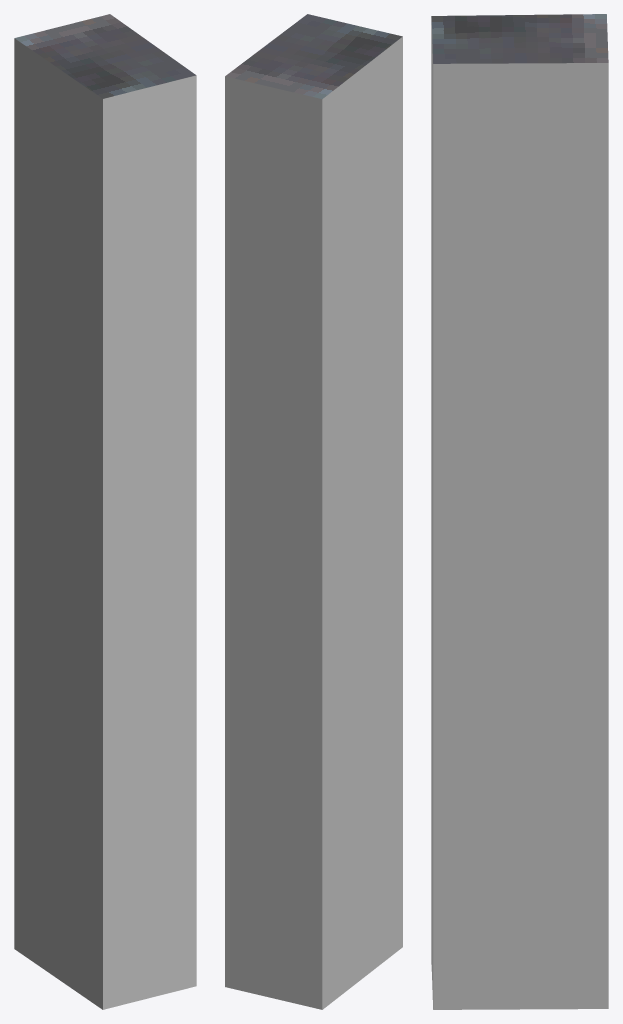
Rendered from DEBW_0010007THWp.gltf.
3 views of the same model, side by side, from view 1: azimuth 30°, elevation 25°; view 2: azimuth 150°, elevation 25°; view 3: azimuth 270°, elevation 25° (orthographic). The views are drawn at different scales.
Visible parts, largest first — view 1: Z_UP; view 2: Z_UP; view 3: Z_UP.
Boxes of the visible parts, <box> form: Z_UP: <box>14,14,196,1009</box>; Z_UP: <box>225,14,402,1009</box>; Z_UP: <box>431,14,608,1009</box>.
Bounding box in the file's own units: 1.98 × 17.49 × 2.97.
2 materials, 1 textured.
